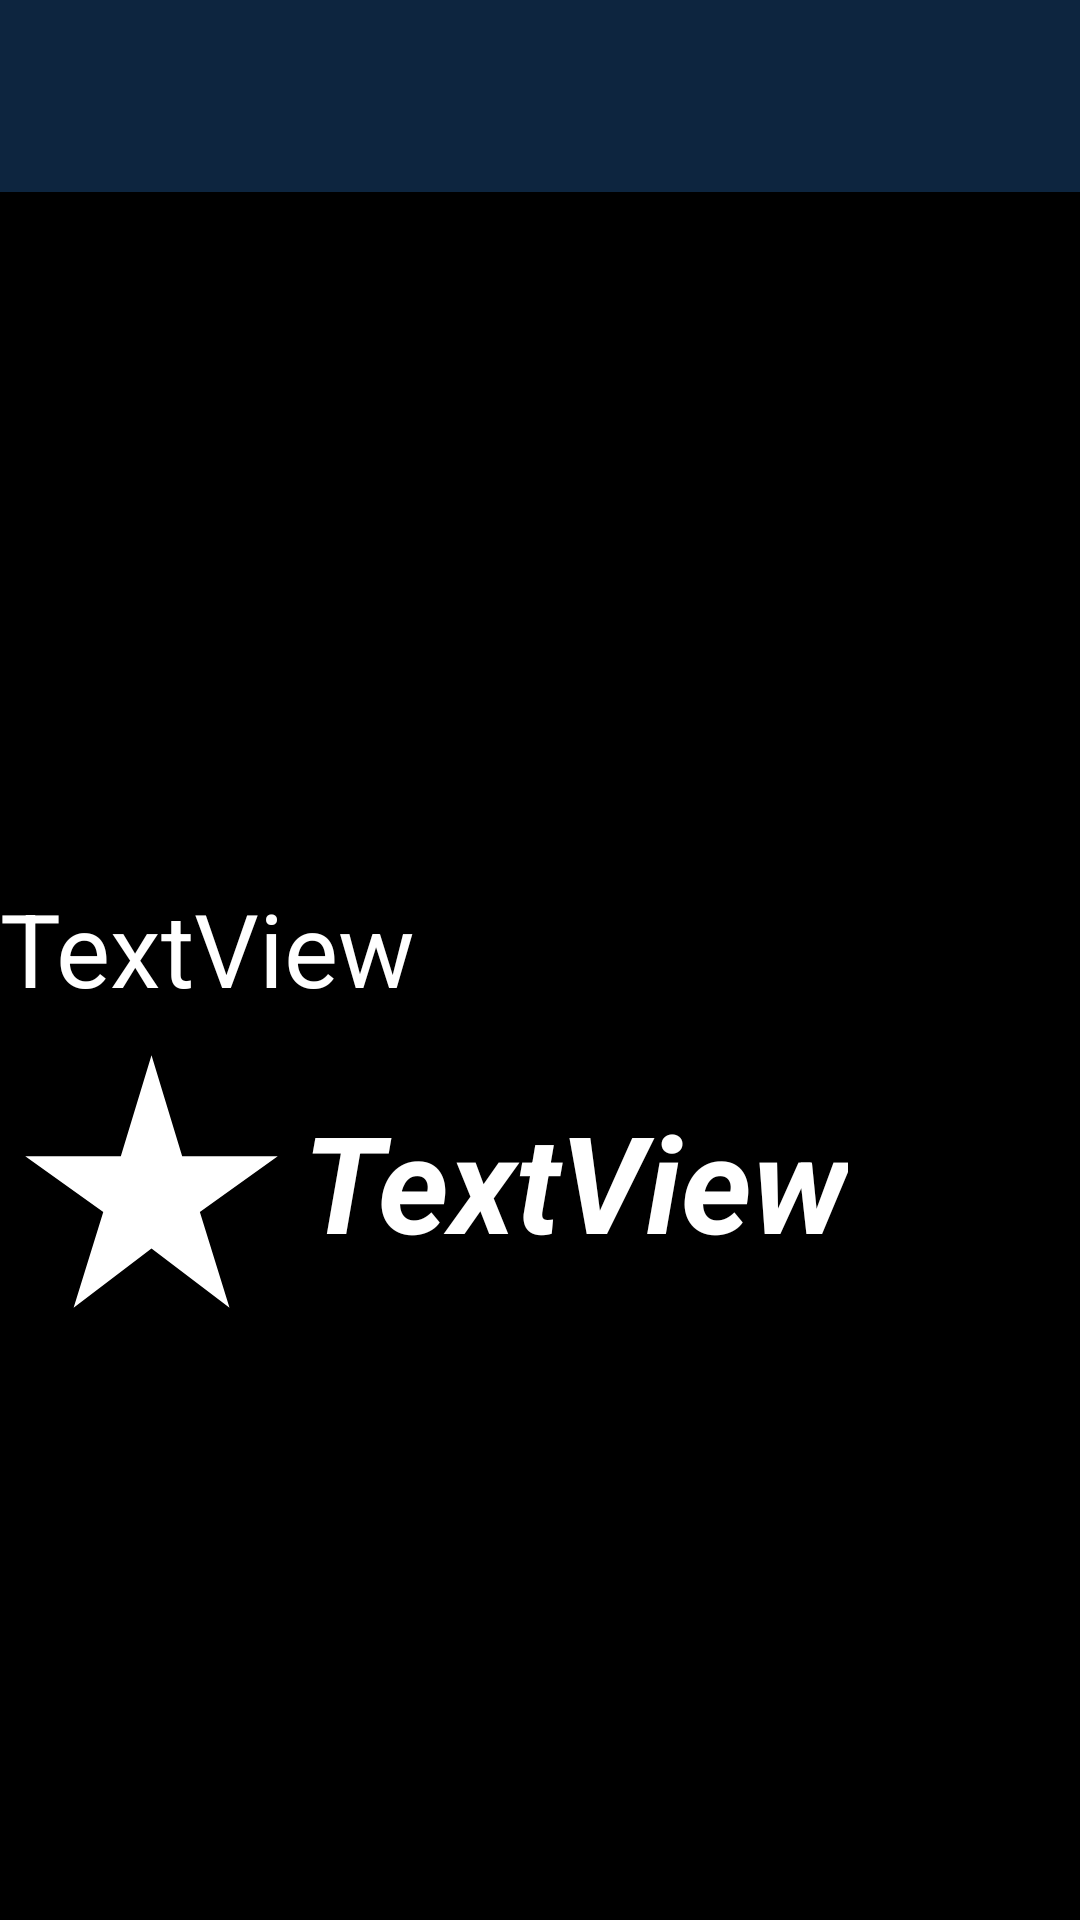

Icons on this 1080w x 1920h Android screen, each with the point to tap as (x,y):
estrella: (151,1181)
